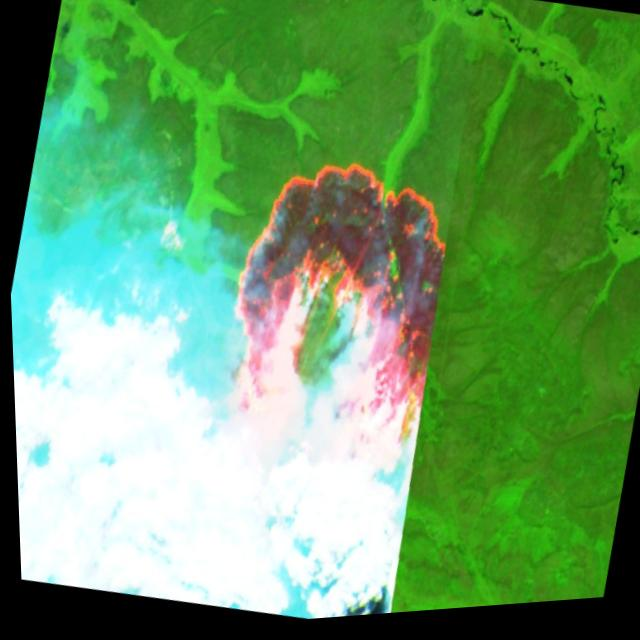fire: (186, 131, 477, 517)
